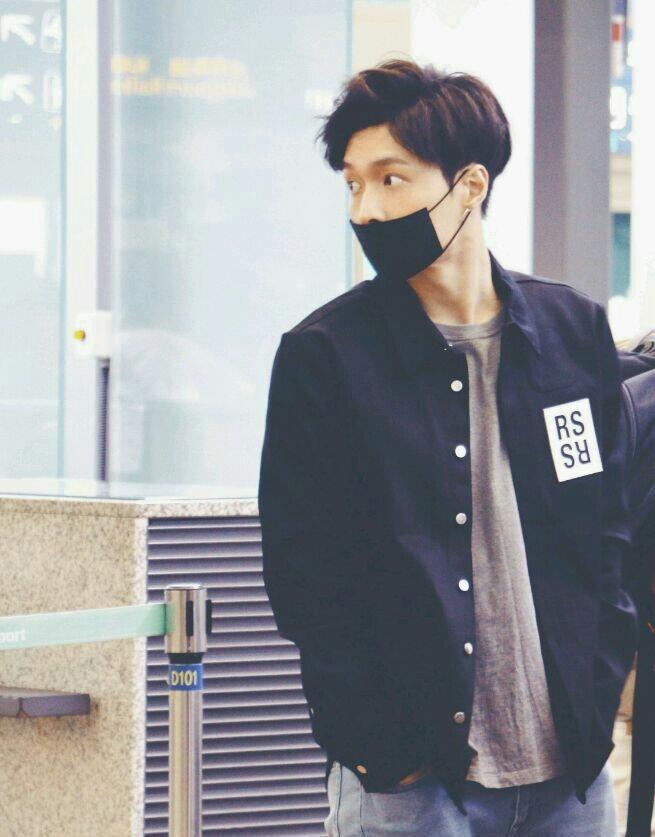WRONG: (335, 154, 463, 282)
